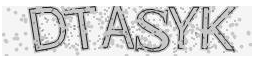A: (101, 6, 135, 49)
D: (28, 6, 66, 52)
K: (201, 6, 237, 52)
S: (135, 8, 170, 53)
T: (63, 6, 97, 50)
Y: (168, 5, 200, 50)
